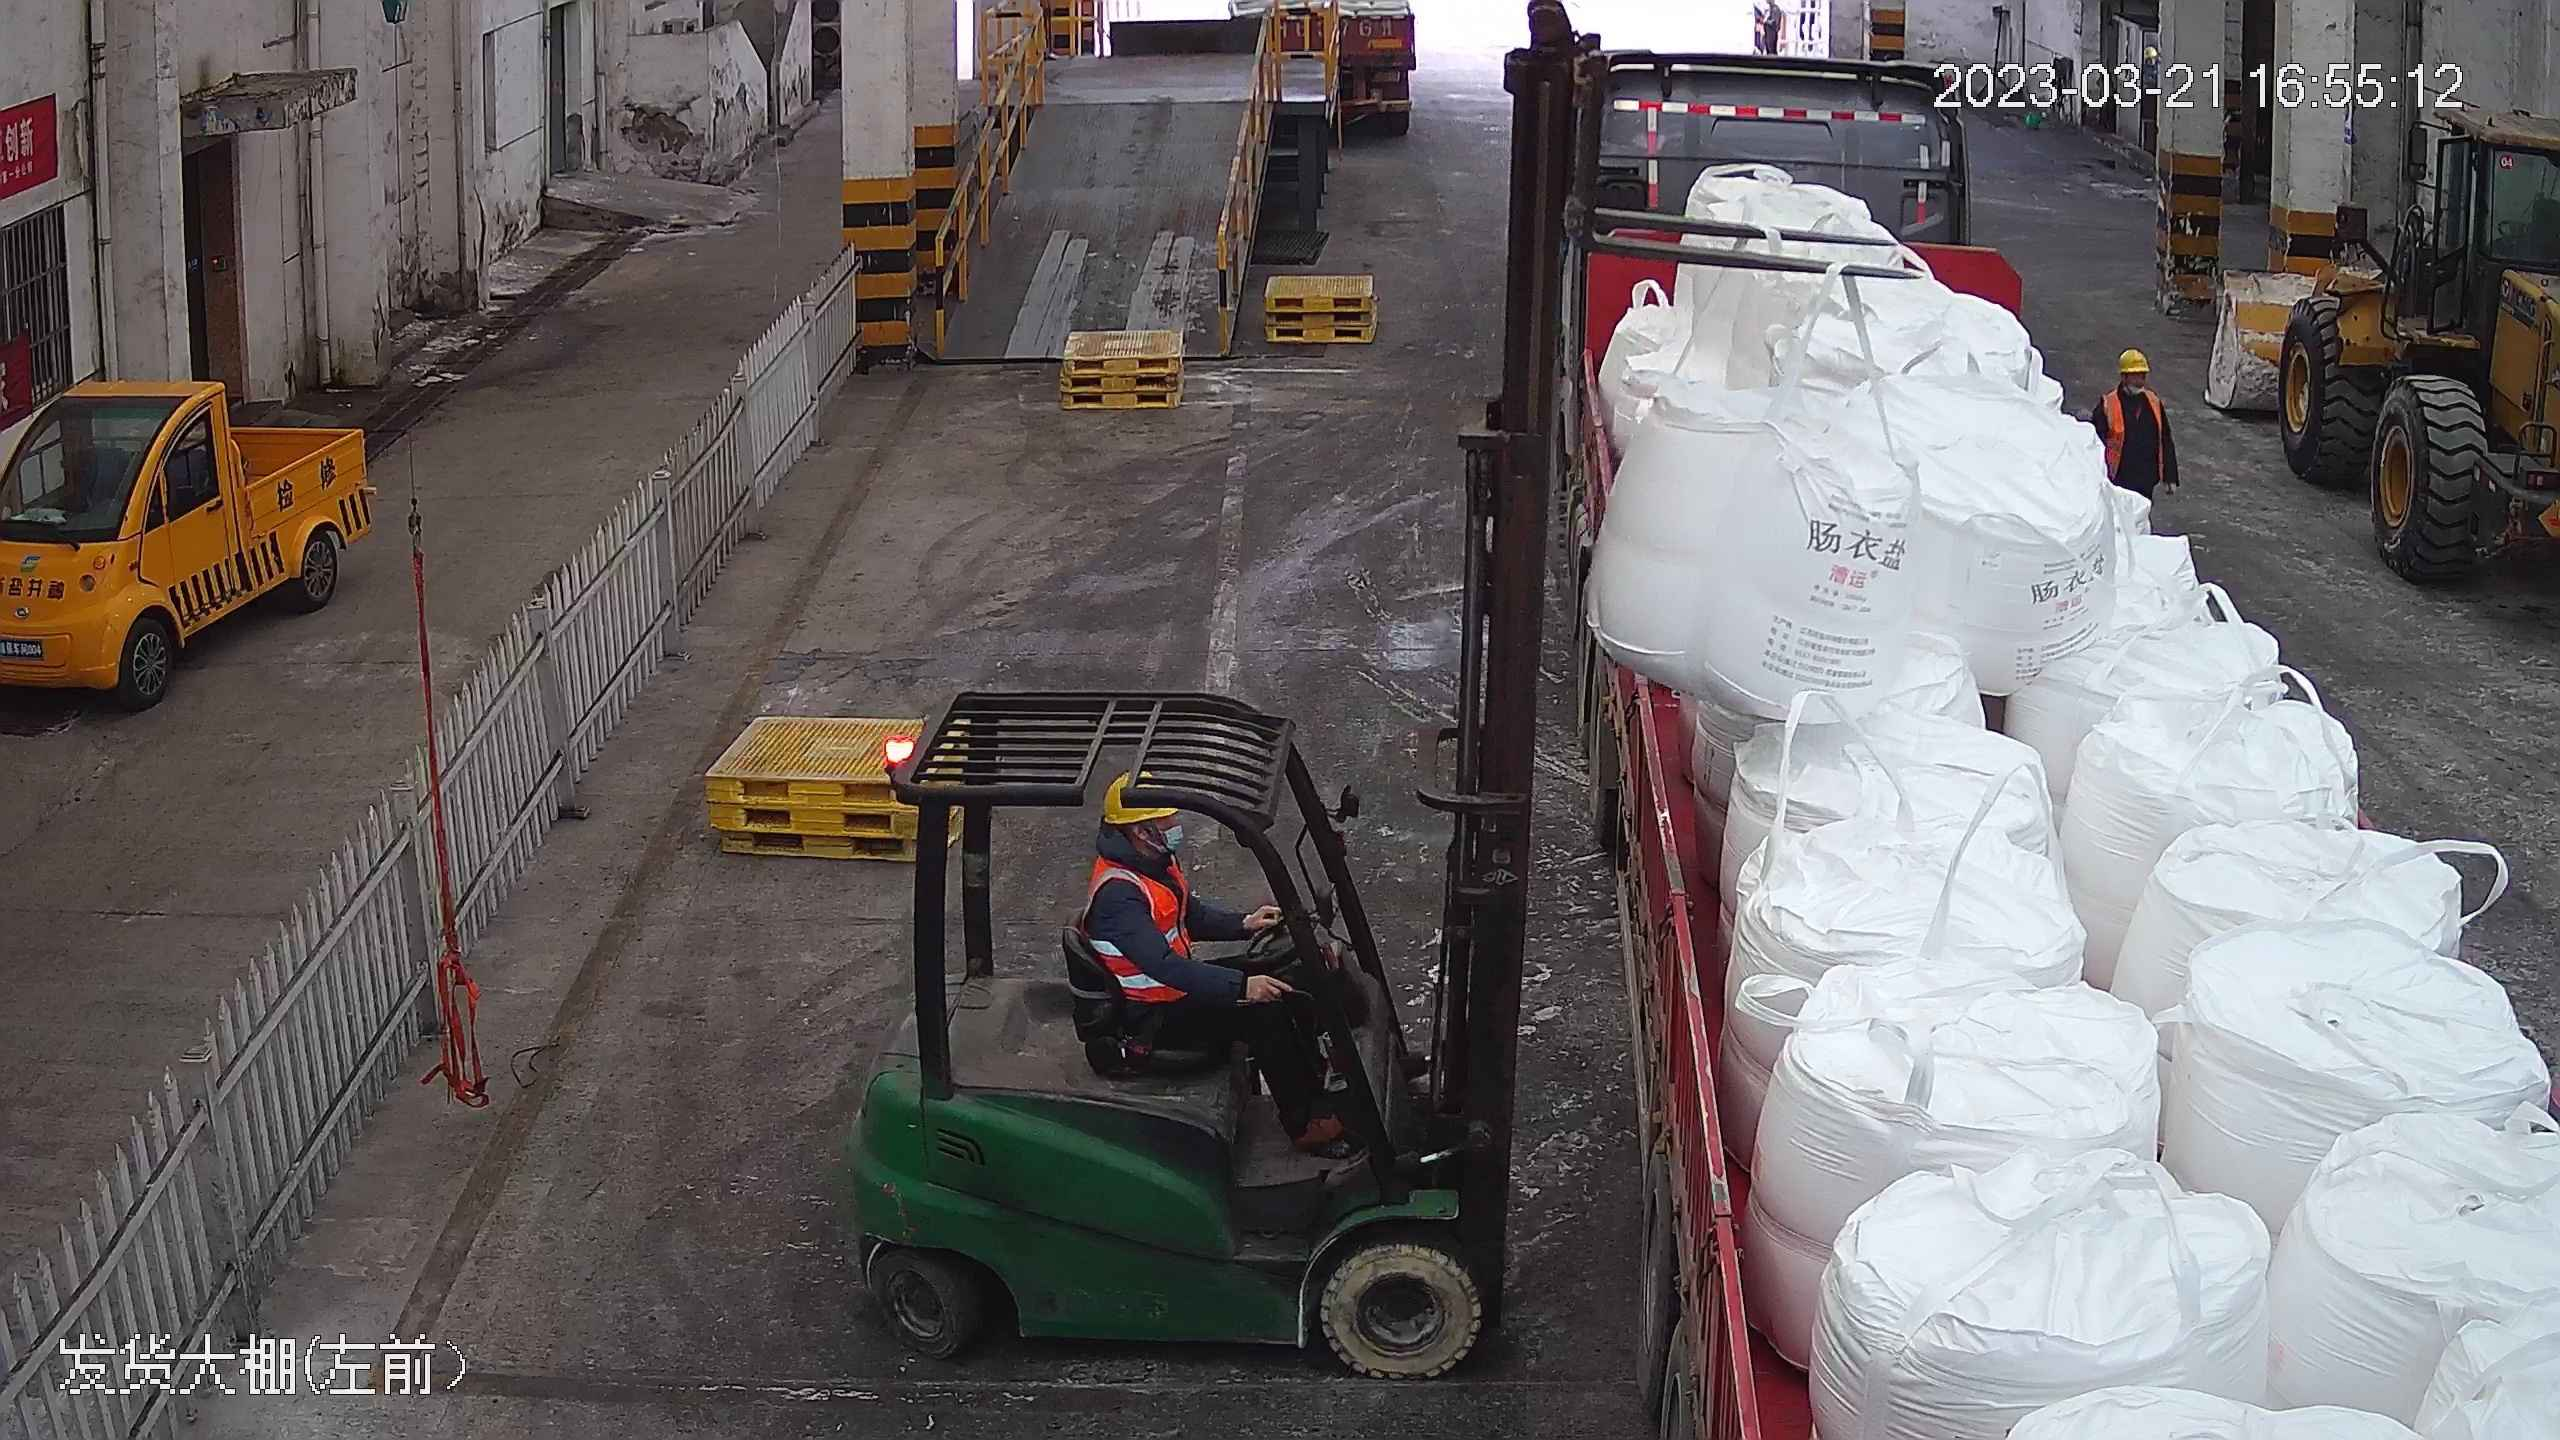head: (1084, 767, 1197, 930), (2098, 345, 2168, 423)
helmet: (1105, 770, 1183, 822), (2113, 343, 2155, 374)
people: (1076, 769, 1346, 1163), (2089, 336, 2183, 505)
truck: (1535, 30, 2559, 1440)
